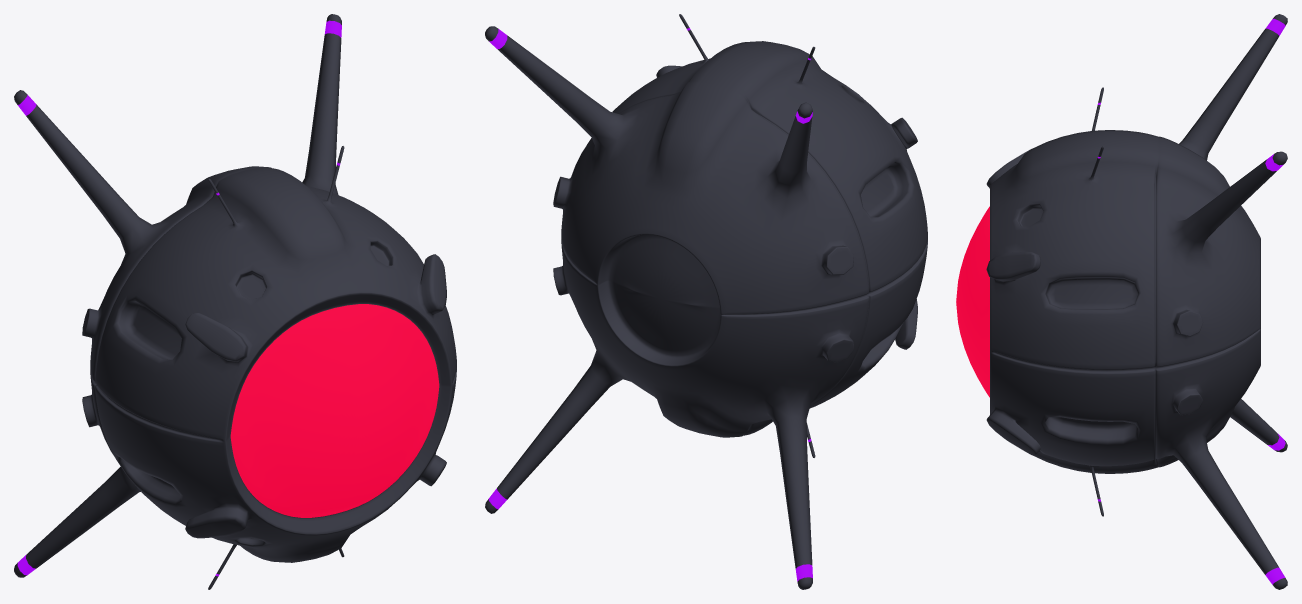
File: drone.glb
3 renders of one model, left to right at view 1: azimuth 30°, elevation 25°; view 2: azimuth 150°, elevation 25°; view 3: azimuth 270°, elevation 25°, orthographic. The views are drawn at different scales.
Visible parts, largest first — view 1: Drone; view 2: Drone; view 3: Drone.
Part boxes in pixels (left/top/right/bottom): Drone: left=14, top=14, right=456, bottom=589; Drone: left=485, top=14, right=927, bottom=589; Drone: left=956, top=14, right=1287, bottom=589.
Size of the model in its own units: 2.03 by 2.9 by 1.99.
